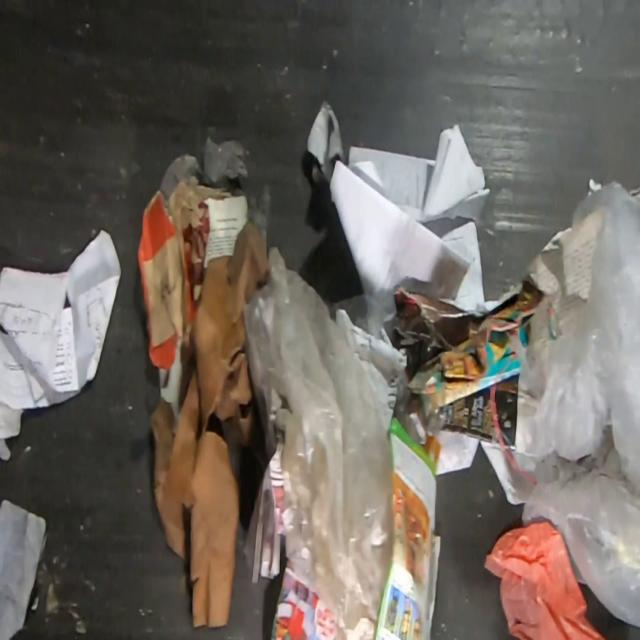cardboard: (146, 221, 269, 630), (385, 272, 545, 414), (136, 175, 239, 372)
soft_plastic: (513, 170, 640, 630), (244, 246, 391, 640), (159, 135, 270, 245)
